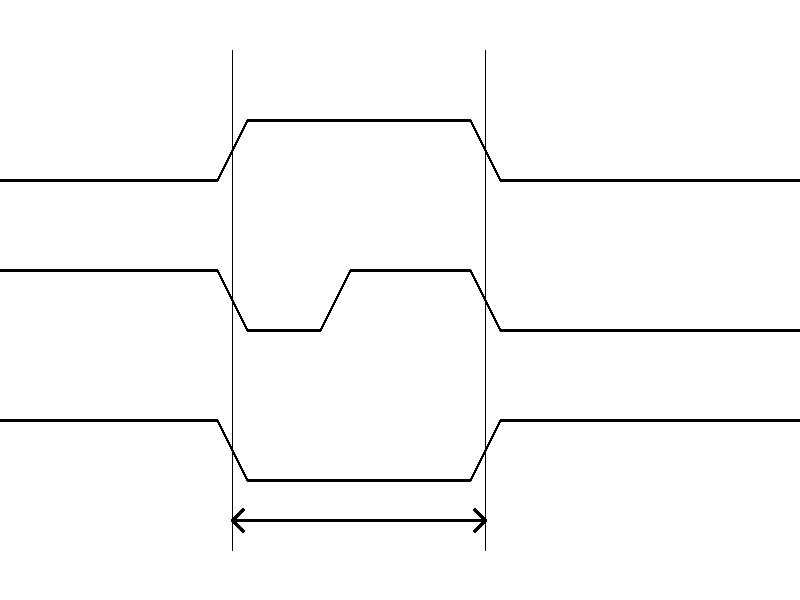double_arrow: (232, 505, 485, 535)
